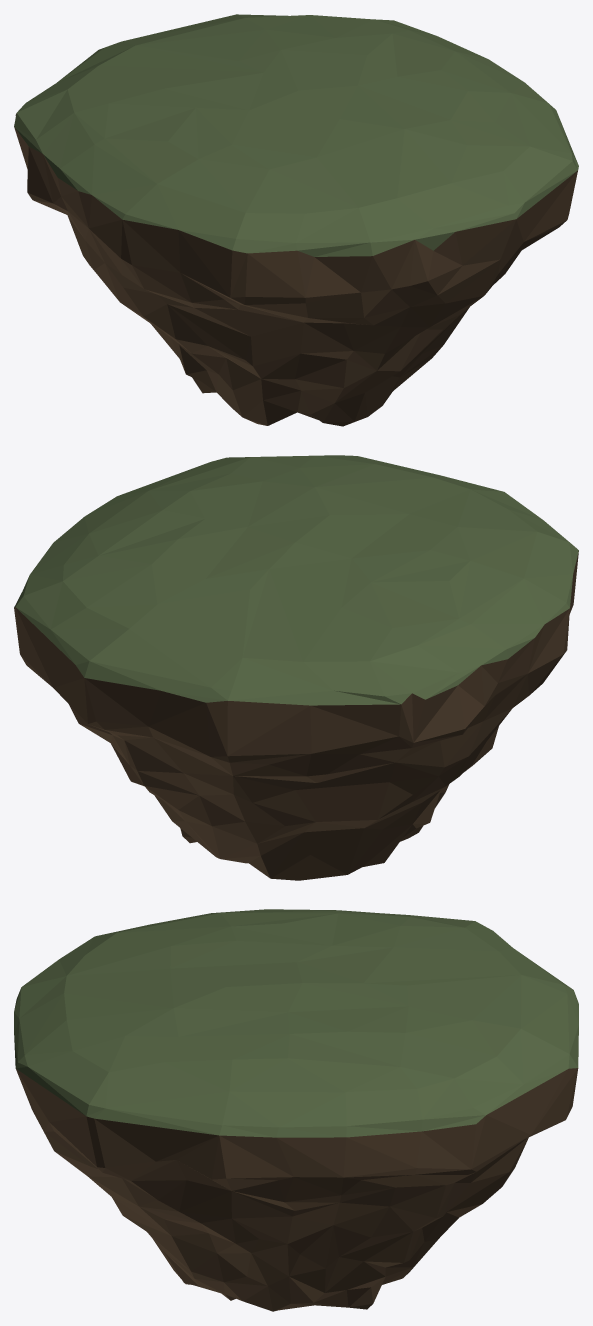
The model's file is island_engine.fbx.
The picture shows the model from 3 angles, top to bottom: view 1: azimuth 30°, elevation 25°; view 2: azimuth 150°, elevation 25°; view 3: azimuth 270°, elevation 25°; orthographic projection. The views are drawn at different scales.
Parts seen in each view (by area): view 1: polySurface1; view 2: polySurface1; view 3: polySurface1.
Boxes of the visible parts, x1,y1,x2,y2 form: polySurface1: [14, 14, 578, 426]; polySurface1: [14, 455, 578, 880]; polySurface1: [14, 909, 578, 1311].
Bounding box in the file's own units: 9.82 × 6.29 × 10.52.
